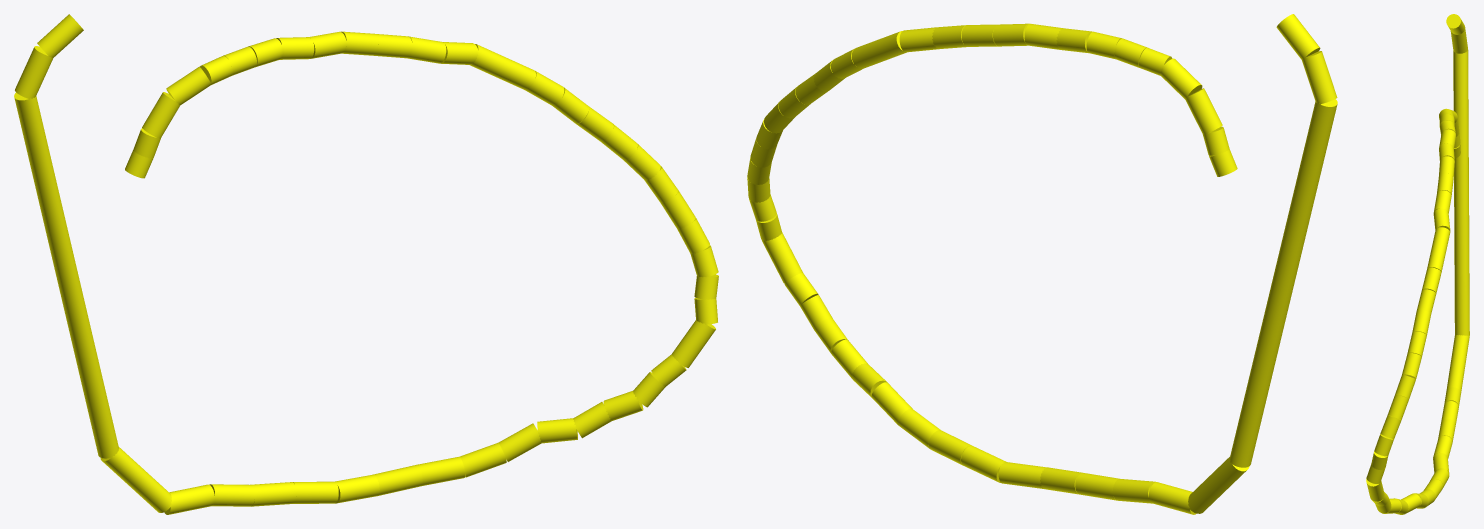
3 renders of one model, left to right at view 1: azimuth 30°, elevation 25°; view 2: azimuth 150°, elevation 25°; view 3: azimuth 270°, elevation 25°, orthographic. The views are drawn at different scales.
Parts seen in each view (by area): view 1: Cylinder(Clone) (×20); view 2: Cylinder(Clone) (×24); view 3: Cylinder(Clone) (×35).
Boxes of the visible parts, box(x1,y1,x2,y2) form: Cylinder(Clone) (×20): box(14, 14, 715, 514); Cylinder(Clone) (×24): box(762, 14, 1337, 514); Cylinder(Clone) (×35): box(1366, 14, 1469, 513).
Size of the model in its own units: 0.3368 by 0.2728 by 0.0693.
